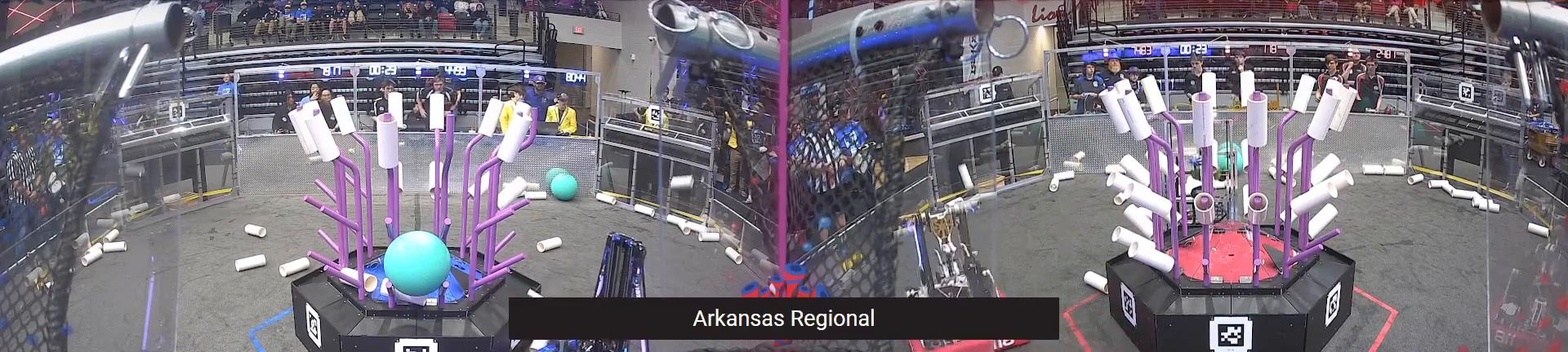coral: (1116, 90, 1151, 141), (305, 112, 340, 163), (498, 113, 532, 163), (1124, 182, 1171, 217), (1307, 93, 1341, 141), (1290, 182, 1338, 216), (1128, 241, 1175, 274), (1099, 86, 1130, 134), (288, 106, 318, 155), (1330, 84, 1358, 132), (1246, 91, 1268, 147), (1192, 92, 1214, 148), (377, 113, 398, 169), (1144, 150, 1179, 181), (1309, 203, 1338, 240), (1112, 226, 1156, 250), (497, 176, 527, 211), (1141, 75, 1167, 115), (330, 96, 356, 136), (478, 98, 504, 137), (1120, 154, 1151, 186), (468, 169, 502, 198), (1124, 205, 1153, 239), (1291, 74, 1315, 115), (1312, 153, 1340, 186), (1106, 172, 1152, 192), (1310, 170, 1355, 190), (1282, 147, 1313, 175), (1247, 193, 1269, 225), (1194, 193, 1216, 224), (1240, 71, 1255, 108), (1202, 72, 1217, 109), (388, 92, 403, 129), (428, 160, 443, 195), (430, 94, 444, 131), (302, 100, 321, 118), (1325, 78, 1343, 96), (1114, 79, 1132, 96), (1164, 210, 1181, 227), (512, 101, 531, 116), (1241, 185, 1249, 220), (1280, 209, 1298, 224), (1241, 139, 1248, 174), (1211, 139, 1218, 172), (397, 161, 403, 193)
reef: (1106, 71, 1357, 352), (289, 92, 542, 352)
robot: (893, 192, 1034, 352), (529, 232, 654, 352)
